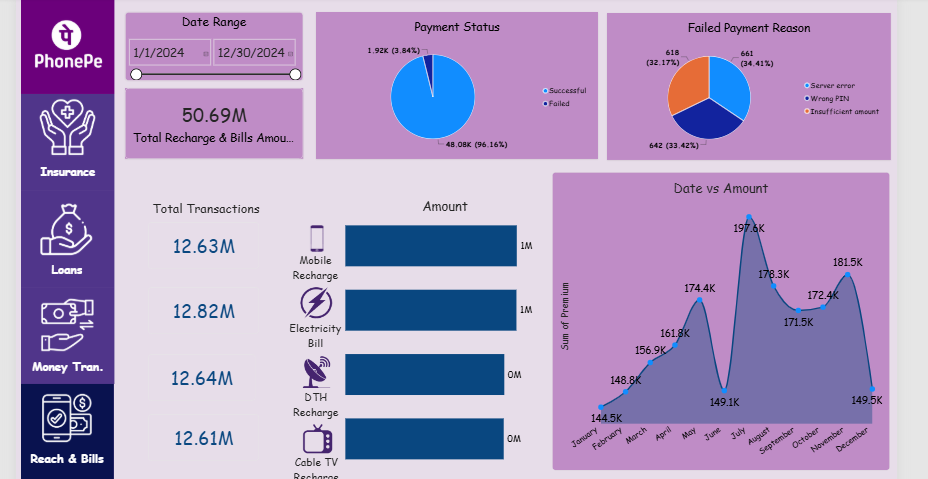

What the dashboard file says about the page in this screenshot:
{"tool":"powerbi","page":{"name":"Recharge & Bills","canvas":[1920,1080],"ordinal":4},"visuals":[{"type":"shape","box":[9.9,0,203,210.9],"z":0},{"type":"shape","box":[9.9,0,203,210.9],"z":0,"group":"g3"},{"type":"shape","box":[10,840,202,226],"z":0,"group":"g2"},{"type":"shape","box":[9.9,210.9,203,210.9],"z":1000},{"type":"shape","box":[9.9,210.9,203,210.9],"z":1000,"group":"g4"},{"type":"image","box":[35.5,855.3,151.8,122.2],"z":1000,"group":"g2"},{"type":"shape","box":[9.9,421.8,203,210.9],"z":2000},{"type":"shape","box":[9.9,421.8,203,210.9],"z":2000,"group":"g5"},{"type":"shape","box":[17.7,977.5,187.2,51.2],"z":2000,"group":"g2"},{"type":"group","id":"g1","title":"Group 4","box":[9.9,0,203,841.5],"z":3000,"group":"g2"},{"type":"shape","box":[9.9,632.6,203,208.9],"z":3000},{"type":"shape","box":[9.9,632.6,203,208.9],"z":3000,"group":"g1"},{"type":"actionButton","box":[0,0,212,210],"z":4000,"group":"g2"},{"type":"shape","box":[10,840,202,226],"z":4000},{"type":"image","box":[33.5,15.8,157.7,181.3],"z":5000},{"type":"image","box":[33.5,15.8,157.7,181.3],"z":5000,"group":"g3"},{"type":"image","box":[25.6,210.9,171.5,143.9],"z":6000},{"type":"image","box":[25.7,210.9,171.5,143.9],"z":6000,"group":"g4"},{"type":"image","box":[31.5,441.5,157.7,124.2],"z":7000},{"type":"image","box":[31.6,441.5,157.7,124.2],"z":7000,"group":"g5"},{"type":"image","box":[27.6,650.4,167.5,126.1],"z":8000,"group":"g1"},{"type":"image","box":[27.6,650.4,167.5,126.1],"z":8000},{"type":"image","box":[35.5,855.3,151.8,122.2],"z":9000},{"type":"shape","box":[37.4,335,147.8,86.7],"z":10000},{"type":"shape","box":[37.5,335,147.8,86.7],"z":10000,"group":"g4"},{"type":"shape","box":[35.5,565.6,147.8,51.2],"z":11000,"group":"g5"},{"type":"shape","box":[35.5,565.6,147.8,51.2],"z":11000},{"type":"shape","box":[17.7,776.5,187.2,51.2],"z":12000},{"type":"shape","box":[17.8,776.5,187.2,51.2],"z":12000,"group":"g1"},{"type":"shape","box":[17.7,977.5,187.2,51.2],"z":13000},{"type":"group","id":"g2","title":"Group 5","box":[0,0,212.8,1066],"z":14000},{"type":"actionButton","box":[4,210,212,210],"z":15000},{"type":"actionButton","box":[0,420,212,210],"z":16000},{"type":"actionButton","box":[6,632,212,210],"z":17000},{"type":"actionButton","box":[0,2,212,210],"z":18000},{"type":"slicer","title":"Date Range","fields":{"Values":["Recharge_Bills.Date"]},"box":[238,32,388,150],"z":19000},{"type":"cardVisual","title":"Total Loan Amount","fields":{"Data":["Sum(Recharge_Bills.Amount)"]},"box":[238,198,388,154],"z":20000},{"type":"pieChart","title":"Payment Status","fields":{"Category":["Recharge_Bills.Payment_Status"],"Y":["CountNonNull(Recharge_Bills.Payment_Status)"]},"box":[652.5,32.5,614,320],"z":21000},{"type":"group","id":"g3","title":"Group 1","box":[9.9,0,203,210.9],"z":21001,"group":"g4"},{"type":"group","id":"g4","title":"Group 2","box":[9.9,0,203,421.8],"z":21002,"group":"g5"},{"type":"group","id":"g5","title":"Group 3","box":[9.9,0,203,632.6],"z":21003,"group":"g1"},{"type":"pieChart","title":"Failed Payment Reason","fields":{"Category":["Recharge_Bills.Reason"],"Y":["CountNonNull(Recharge_Bills.Reason)"]},"box":[1286,34,618,320],"z":22000},{"type":"areaChart","title":"Date vs Amount","fields":{"Category":["Recharge_Bills.Date.Variation.Date Hierarchy.Month"],"Y":["Sum(Recharge_Bills.Amount)"]},"box":[1168,380,736,650],"z":23000},{"type":"barChart","title":"Amount","fields":{"Category":["Recharge_Bills.Recharge_Type"],"Y":["Sum(Recharge_Bills.Amount)"]},"box":[702,420,466,610],"z":24000},{"type":"image","box":[596.7,493.3,120,63.3],"z":25000},{"type":"image","box":[585,630,136.7,73.3],"z":26000},{"type":"image","box":[581.7,776.7,144,74],"z":27000},{"type":"image","box":[598.3,920,116,80],"z":28000},{"type":"textbox","box":[255,441.7,318.3,46.7],"z":29000},{"type":"cardVisual","fields":{"Data":["Sum(Recharge_Bills.Amount)"]},"box":[288,490,242,102],"z":30000},{"type":"cardVisual","fields":{"Data":["Sum(Recharge_Bills.Amount)"]},"box":[288.3,776.7,234,102],"z":31000},{"type":"cardVisual","fields":{"Data":["Sum(Recharge_Bills.Amount)"]},"box":[288,632,242,102],"z":32000},{"type":"cardVisual","fields":{"Data":["Sum(Recharge_Bills.Amount)"]},"box":[286.7,908.3,242,102],"z":33000},{"type":"shape","title":"Mobile Recharge","box":[593.3,558.3,120,65],"z":34000},{"type":"shape","title":"Electricity Bill","box":[588.3,705,128.3,71.7],"z":35000},{"type":"shape","title":"DTH Recharge","box":[581.7,855,143.3,65],"z":36000},{"type":"shape","title":"Cable TV Recharge","box":[578.3,996.7,150,66.7],"z":37000}]}

Visuals, with their boxes on the page's 1920x1080 design canvas (x1, y1, x2, y2). These are canvas units, not pixel positions in the 928x479 screenshot, which may show the page scaled, cropped or inside an application window:
shape: BBox(10, 0, 213, 211)
shape: BBox(10, 0, 213, 211)
shape: BBox(10, 840, 212, 1066)
shape: BBox(10, 211, 213, 422)
shape: BBox(10, 211, 213, 422)
image: BBox(36, 855, 187, 978)
shape: BBox(10, 422, 213, 633)
shape: BBox(10, 422, 213, 633)
shape: BBox(18, 978, 205, 1029)
"Group 4" group: BBox(10, 0, 213, 842)
shape: BBox(10, 633, 213, 842)
shape: BBox(10, 633, 213, 842)
actionButton: BBox(0, 0, 212, 210)
shape: BBox(10, 840, 212, 1066)
image: BBox(34, 16, 191, 197)
image: BBox(34, 16, 191, 197)
image: BBox(26, 211, 197, 355)
image: BBox(26, 211, 197, 355)
image: BBox(32, 442, 189, 566)
image: BBox(32, 442, 189, 566)
image: BBox(28, 650, 195, 776)
image: BBox(28, 650, 195, 776)
image: BBox(36, 855, 187, 978)
shape: BBox(37, 335, 185, 422)
shape: BBox(38, 335, 185, 422)
shape: BBox(36, 566, 183, 617)
shape: BBox(36, 566, 183, 617)
shape: BBox(18, 776, 205, 828)
shape: BBox(18, 776, 205, 828)
shape: BBox(18, 978, 205, 1029)
"Group 5" group: BBox(0, 0, 213, 1066)
actionButton: BBox(4, 210, 216, 420)
actionButton: BBox(0, 420, 212, 630)
actionButton: BBox(6, 632, 218, 842)
actionButton: BBox(0, 2, 212, 212)
"Date Range" slicer: BBox(238, 32, 626, 182)
"Total Loan Amount" cardVisual: BBox(238, 198, 626, 352)
"Payment Status" pieChart: BBox(652, 32, 1266, 352)
"Group 1" group: BBox(10, 0, 213, 211)
"Group 2" group: BBox(10, 0, 213, 422)
"Group 3" group: BBox(10, 0, 213, 633)
"Failed Payment Reason" pieChart: BBox(1286, 34, 1904, 354)
"Date vs Amount" areaChart: BBox(1168, 380, 1904, 1030)
"Amount" barChart: BBox(702, 420, 1168, 1030)
image: BBox(597, 493, 717, 557)
image: BBox(585, 630, 722, 703)
image: BBox(582, 777, 726, 851)
image: BBox(598, 920, 714, 1000)
textbox: BBox(255, 442, 573, 488)
cardVisual - Sum(Recharge_Bills.Amount): BBox(288, 490, 530, 592)
cardVisual - Sum(Recharge_Bills.Amount): BBox(288, 777, 522, 879)
cardVisual - Sum(Recharge_Bills.Amount): BBox(288, 632, 530, 734)
cardVisual - Sum(Recharge_Bills.Amount): BBox(287, 908, 529, 1010)
"Mobile Recharge" shape: BBox(593, 558, 713, 623)
"Electricity Bill" shape: BBox(588, 705, 717, 777)
"DTH Recharge" shape: BBox(582, 855, 725, 920)
"Cable TV Recharge" shape: BBox(578, 997, 728, 1063)
